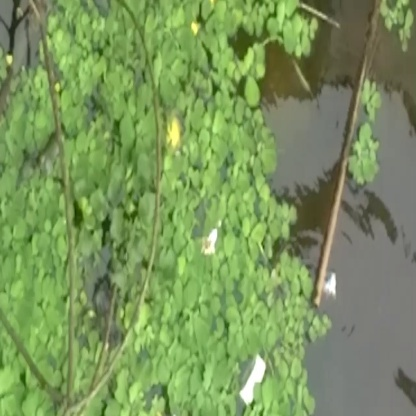branch: (314, 5, 383, 307)
